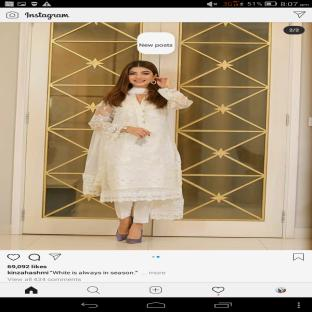Human: (83, 60, 192, 243)
